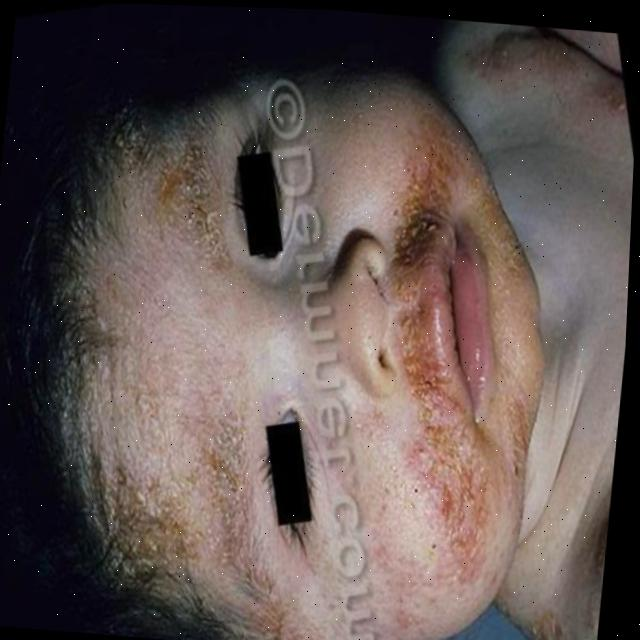Eczema: (406, 160, 521, 569), (115, 444, 225, 568), (150, 165, 219, 270)
